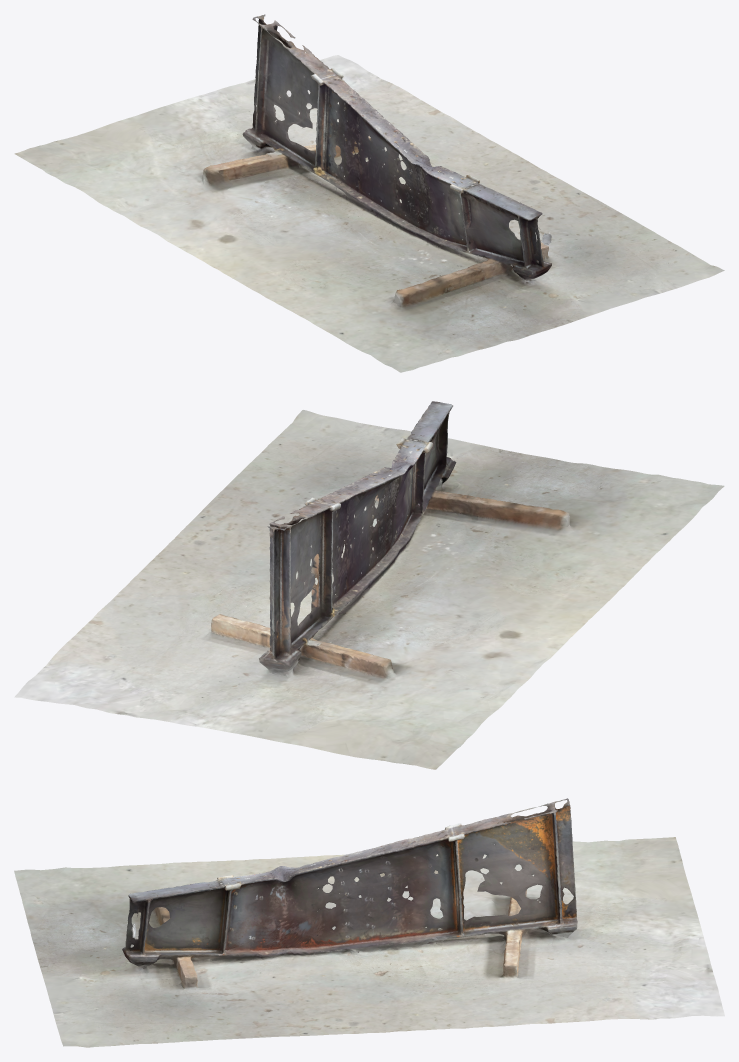
The picture shows the model from 3 angles, top to bottom: view 1: azimuth 30°, elevation 25°; view 2: azimuth 150°, elevation 25°; view 3: azimuth 270°, elevation 25°; orthographic projection. The views are drawn at different scales.
Size of the model in its own units: 1.06 by 0.3253 by 1.52.
Materials: 1 (1 with a texture image).
